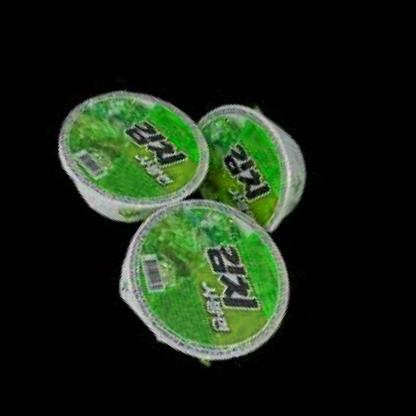Ramen: (98, 176, 321, 390), (31, 57, 228, 250), (156, 84, 330, 255)
